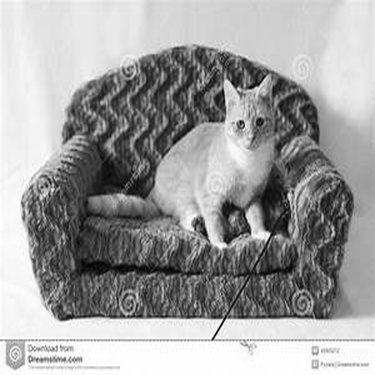cat: (89, 71, 276, 251)
